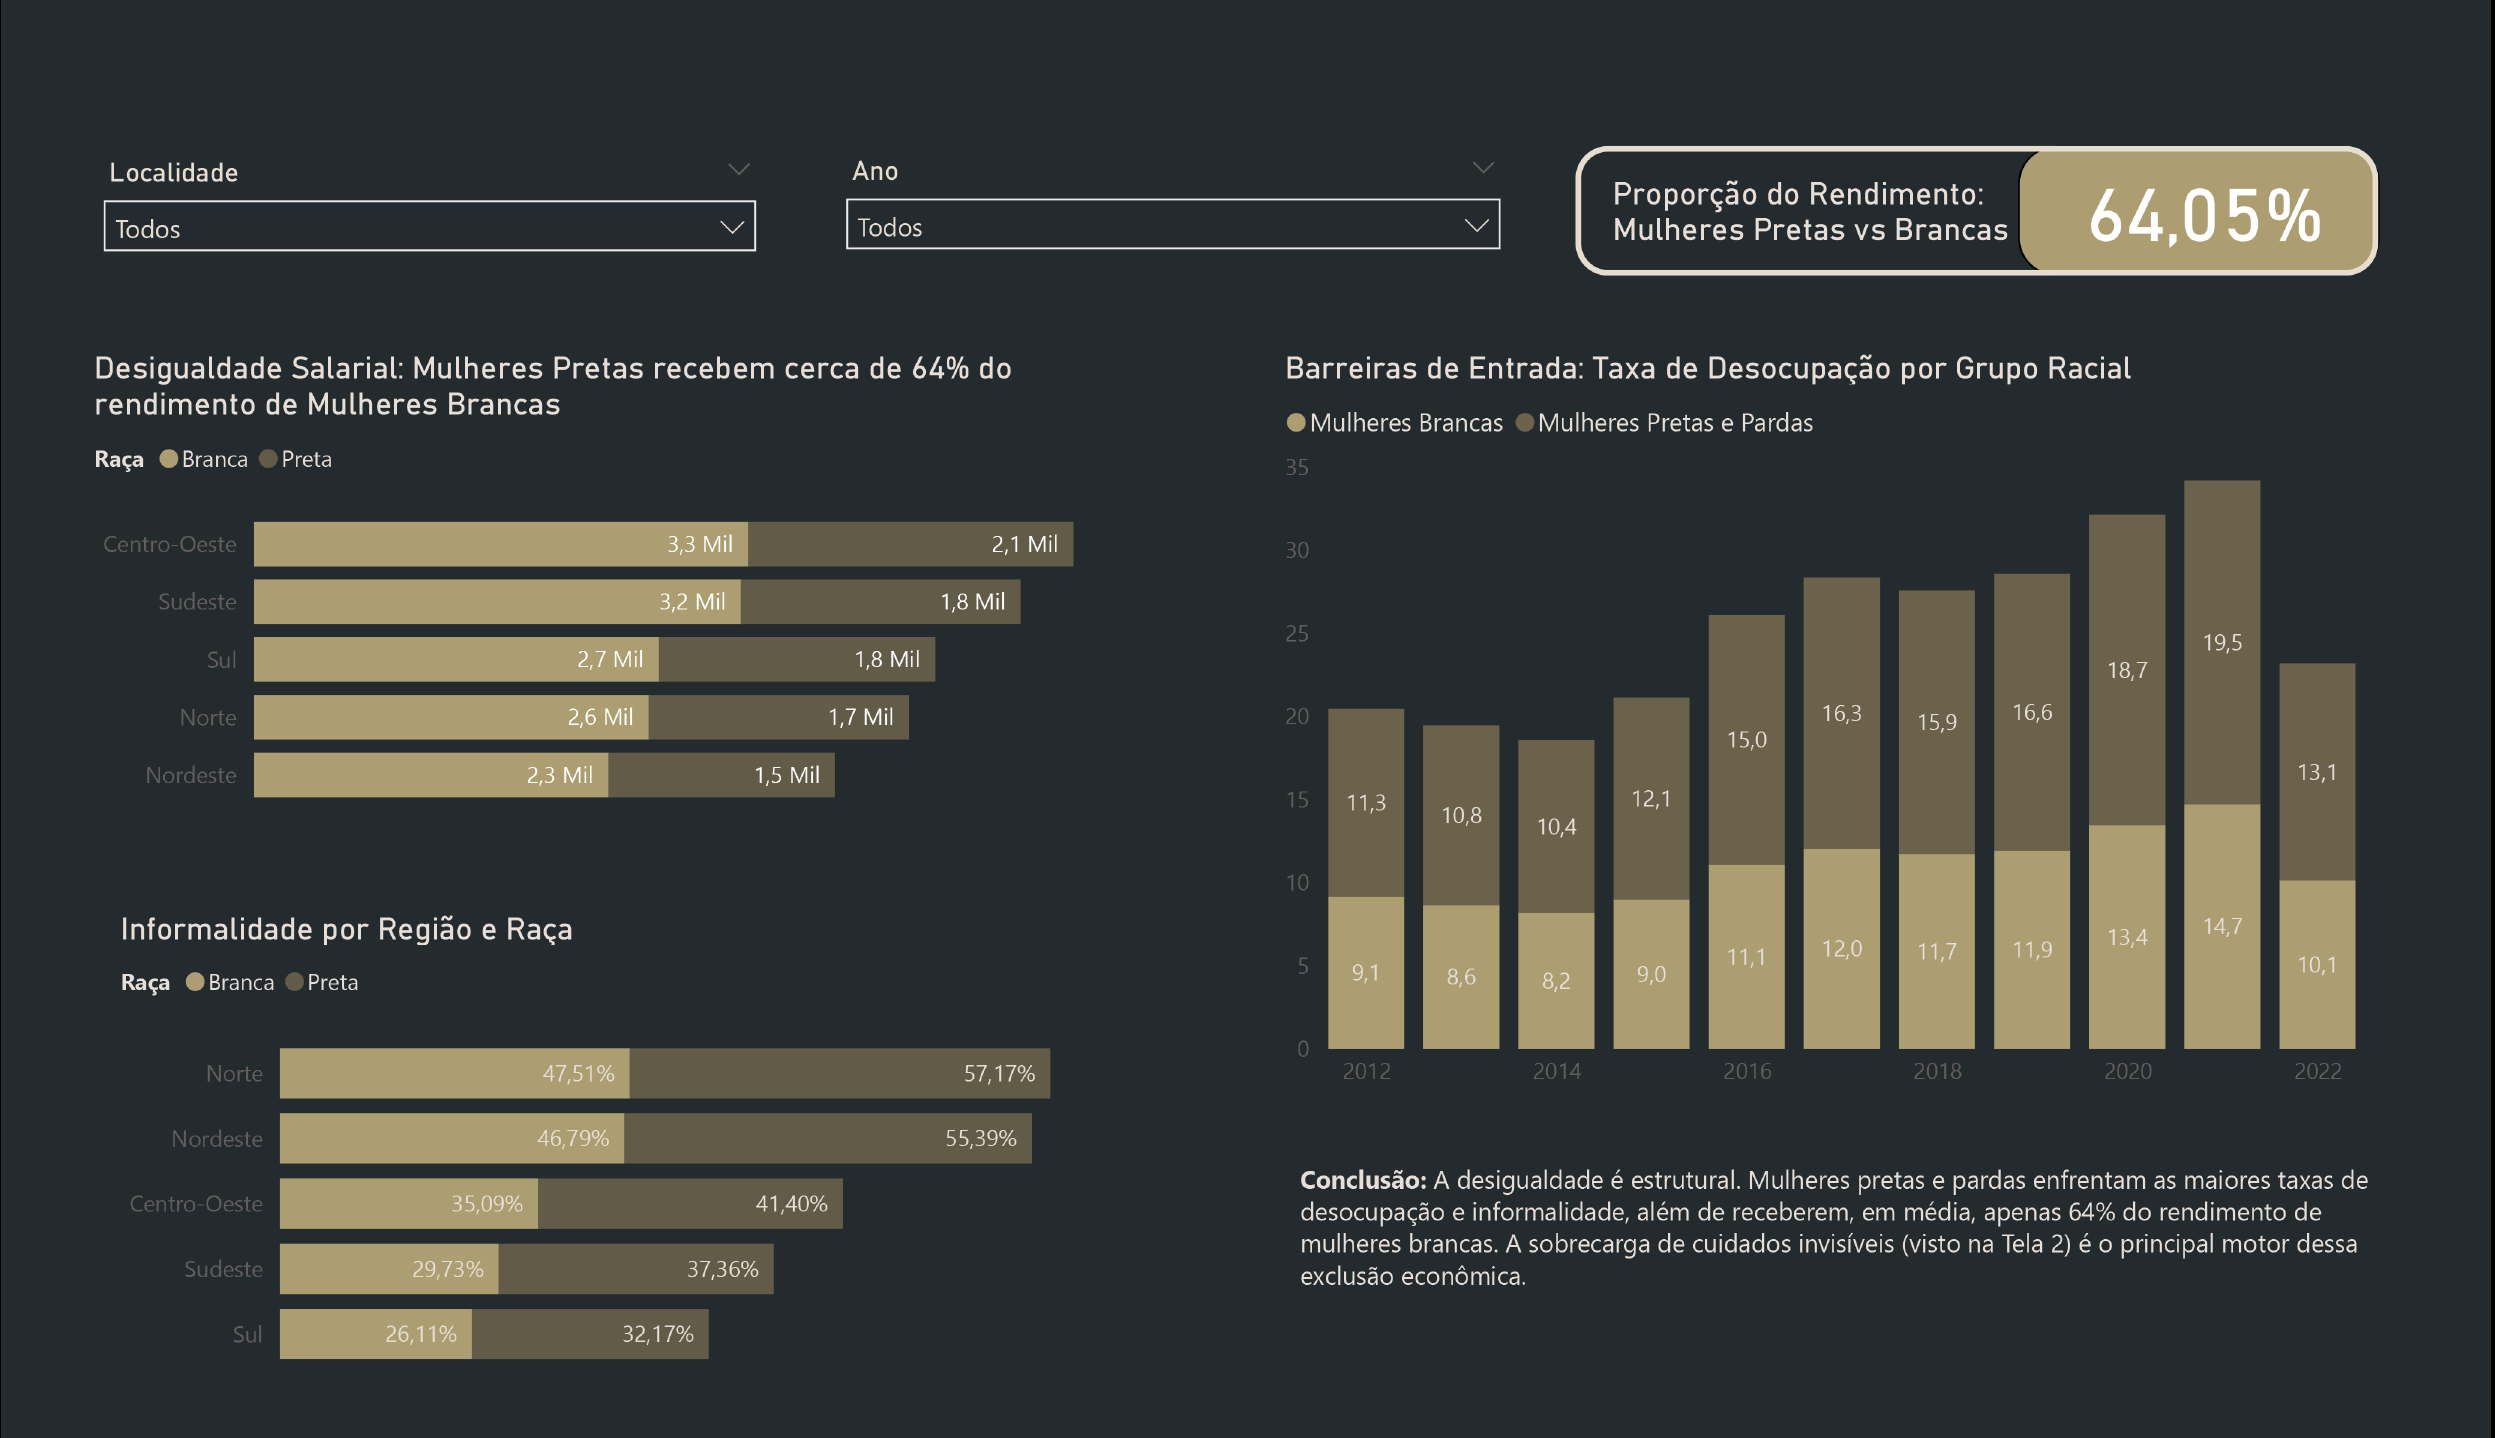

The dashboard page shown, as its layout file describes it:
{"tool":"powerbi","page":{"name":"3","canvas":[1280,720],"ordinal":2},"visuals":[{"type":"shape","box":[1052.1,54.5,192.1,69.3],"z":0,"group":"g1"},{"type":"barChart","title":"Desigualdade Salarial: Mulheres Pretas recebem cerca de 64% do rendimento de Mulheres Brancas","fields":{"Category":["IBGE_Rendimento_Regiao_Raca.Localidade"],"Y":["Avg(IBGE_Rendimento_Regiao_Raca.Rendimento Mulheres)"],"Series":["IBGE_Rendimento_Regiao_Raca.Raça"]},"box":[21.3,161.8,580,257.5],"z":0},{"type":"shape","box":[815.7,54.5,427.9,69.3],"z":1000,"group":"g1"},{"type":"group","id":"g1","title":"Grupo 1","box":[815.7,54.5,427.6,70.7],"z":1000},{"type":"slicer","fields":{"Values":["IBGE_Rendimento_Regiao_Raca.Localidade"]},"box":[20.9,54.6,368.5,57.9],"z":2000},{"type":"card","fields":{"Values":["IBGE_Rendimento_Regiao_Raca.% Rendimento Preta vs Branca"]},"box":[1078.6,60.9,145,52.1],"z":3000,"group":"g1"},{"type":"slicer","fields":{"Values":["IBGE_Rendimento_Regiao_Raca.Ano"]},"box":[417.1,54.5,368.5,57.9],"z":3000},{"type":"textbox","box":[830.6,64.7,230.6,55.6],"z":4000,"group":"g1"},{"type":"barChart","title":"Informalidade por Região e Raça","fields":{"Category":["IBGE_Trabalho_Informal_Regioes.Localidade"],"Series":["IBGE_Trabalho_Informal_Regioes.Raça"],"Y":["IBGE_Trabalho_Informal_Regioes.% Informalidade Mulher"]},"box":[35.4,460.7,565.8,259.9],"z":4000},{"type":"lineStackedColumnComboChart","title":"Barreiras de Entrada: Taxa de Desocupação por Grupo Racial","fields":{"Category":["IBGE_Taxa_Desocupacao_UF.Ano"],"Y":["Avg(IBGE_Taxa_Desocupacao_UF.Mulher_Branca)","Avg(IBGE_Taxa_Desocupacao_UF.Mulher_PretaaParda)"]},"box":[655.6,161.8,581.1,402.8],"z":5000},{"type":"textbox","box":[663.8,590.6,581.1,88.6],"z":6000}]}

Visuals, with their boxes in screenshot pixels (x1, y1, x2, y2), scaled from the page's 1280x720 canvas onto the 2495x1438 screenshot:
shape: 2051 109 2425 247
"Desigualdade Salarial: Mulheres Pretas recebem cerca de 64% do rendimento de Mulheres Brancas" barChart: 42 323 1172 837
shape: 1590 109 2424 247
"Grupo 1" group: 1590 109 2423 250
slicer - IBGE_Rendimento_Regiao_Raca.Localidade: 41 109 759 225
card - IBGE_Rendimento_Regiao_Raca.% Rendimento Preta vs Branca: 2102 122 2385 226
slicer - IBGE_Rendimento_Regiao_Raca.Ano: 813 109 1531 224
textbox: 1619 129 2069 240
"Informalidade por Região e Raça" barChart: 69 920 1172 1437
"Barreiras de Entrada: Taxa de Desocupação por Grupo Racial" lineStackedColumnComboChart: 1278 323 2411 1128
textbox: 1294 1180 2427 1357
